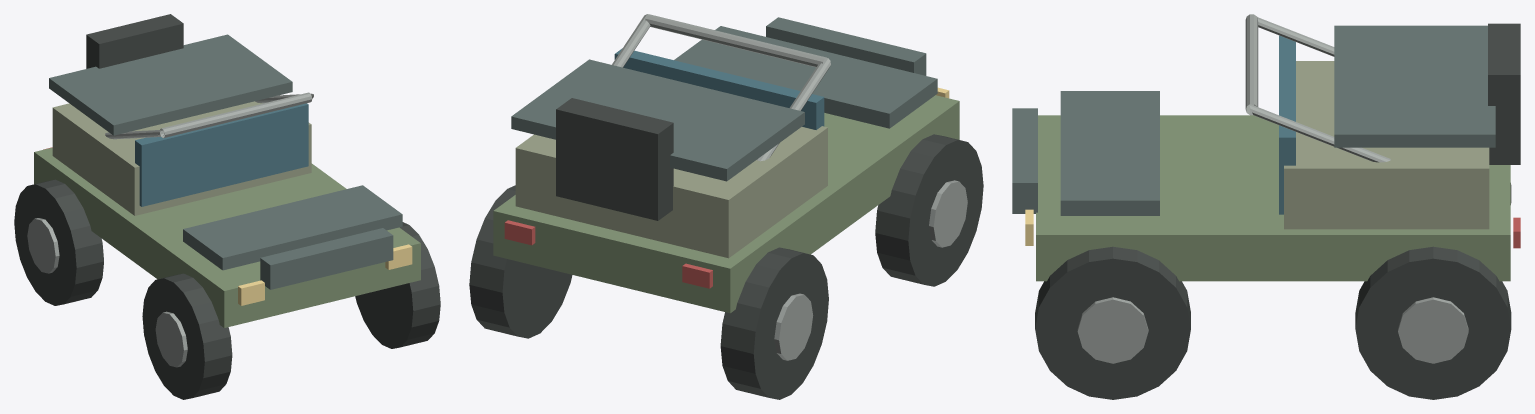
The model's file is vehicle-scout-buggy.gltf.
3 renders of one model, left to right at view 1: azimuth 30°, elevation 25°; view 2: azimuth 150°, elevation 25°; view 3: azimuth 270°, elevation 25°, orthographic. The views are drawn at different scales.
Visible parts, largest first — view 1: armor, tire, body, glass, body2, metal, light; view 2: tire, armor, body, body2, metal, glass, red; view 3: body, tire, armor, body2, metal, glass.
Boxes of the visible parts, x1=… form: armor: x1=49, y1=34, x2=402, y2=289; tire: x1=14, y1=14, x2=440, y2=399; body: x1=34, y1=147, x2=420, y2=327; glass: x1=135, y1=103, x2=308, y2=206; body2: x1=52, y1=101, x2=311, y2=215; metal: x1=27, y1=92, x2=313, y2=367; light: x1=238, y1=244, x2=412, y2=305; tire: x1=469, y1=98, x2=983, y2=399; armor: x1=511, y1=17, x2=937, y2=181; body: x1=493, y1=95, x2=959, y2=313; body2: x1=515, y1=126, x2=827, y2=258; metal: x1=612, y1=14, x2=967, y2=360; glass: x1=614, y1=48, x2=824, y2=129; red: x1=504, y1=220, x2=712, y2=288; body: x1=1036, y1=115, x2=1510, y2=281; tire: x1=1035, y1=23, x2=1520, y2=399; armor: x1=1012, y1=25, x2=1495, y2=215; body2: x1=1284, y1=61, x2=1489, y2=229; metal: x1=1077, y1=14, x2=1468, y2=363; glass: x1=1279, y1=35, x2=1295, y2=214.
Size of the model in its own units: 2.48 by 2.17 by 3.59.
